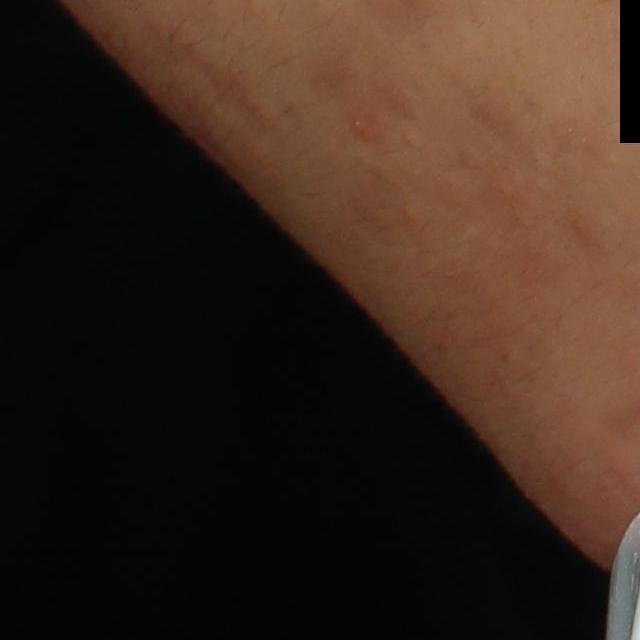papule: (343, 105, 389, 152)
